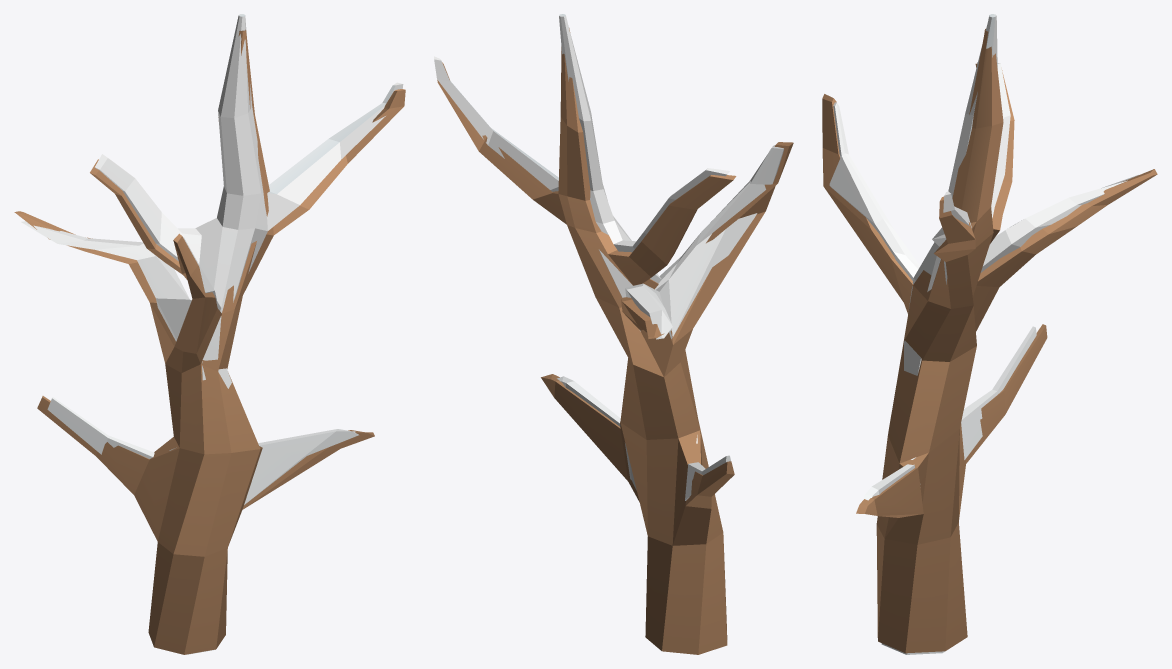
Rendered from arbuste1.fbx.
3 views of the same model, side by side, from view 1: azimuth 30°, elevation 25°; view 2: azimuth 150°, elevation 25°; view 3: azimuth 270°, elevation 25° (orthographic). The views are drawn at different scales.
Parts seen in each view (by area): view 1: Cylinder.085, Cylinder.088; view 2: Cylinder.085, Cylinder.088; view 3: Cylinder.085, Cylinder.088.
Boxes of the visible parts, box(x1,y1,x2,y2) form: Cylinder.085: box(14, 29, 405, 654); Cylinder.088: box(21, 14, 403, 654); Cylinder.085: box(437, 28, 793, 654); Cylinder.088: box(434, 14, 783, 500); Cylinder.085: box(822, 29, 1157, 653); Cylinder.088: box(829, 14, 1139, 654).
Size of the model in its own units: 1.09 by 1.88 by 0.8524.
Materials: 1 (1 with a texture image).
